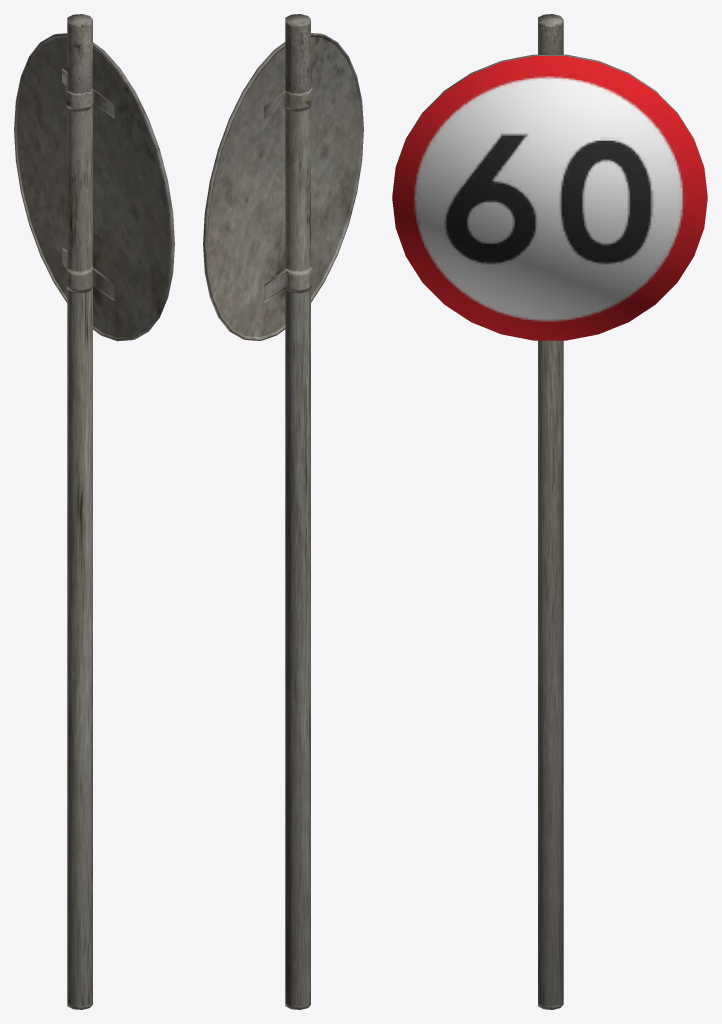
The model's file is znak_60.dae.
3 views of the same model, side by side, from view 1: azimuth 30°, elevation 25°; view 2: azimuth 150°, elevation 25°; view 3: azimuth 270°, elevation 25° (orthographic).
Parts seen in each view (by area): view 1: znak60_a65; view 2: znak60_a65; view 3: znak60_a65.
Part boxes in pixels (x1,y1,x2,y2): znak60_a65: (14, 14, 174, 1009); znak60_a65: (203, 14, 363, 1009); znak60_a65: (392, 14, 707, 1009).
Bounding box in the file's own units: 0.06 × 0.5807 × 2.
Materials: 1 (1 with a texture image).
